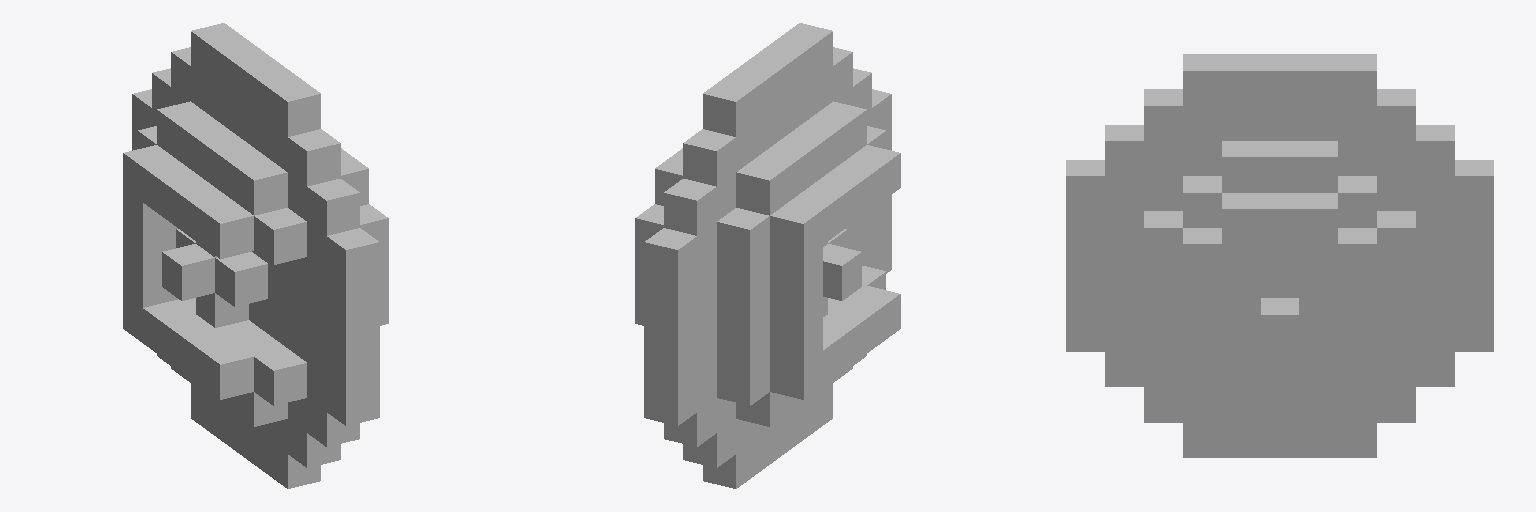
Rendered from Coin.obj.
The picture shows the model from 3 angles: view 1: azimuth 30°, elevation 25°; view 2: azimuth 150°, elevation 25°; view 3: azimuth 270°, elevation 25°; orthographic projection.
Parts seen in each view (by area): view 1: object 1; view 2: object 1; view 3: object 1.
Boxes of the visible parts, <box> form: object 1: <box>123,23,388,488</box>; object 1: <box>635,23,900,488</box>; object 1: <box>1066,54,1493,457</box>.
Bounding box in the file's own units: 0.5 × 1.1 × 1.1.